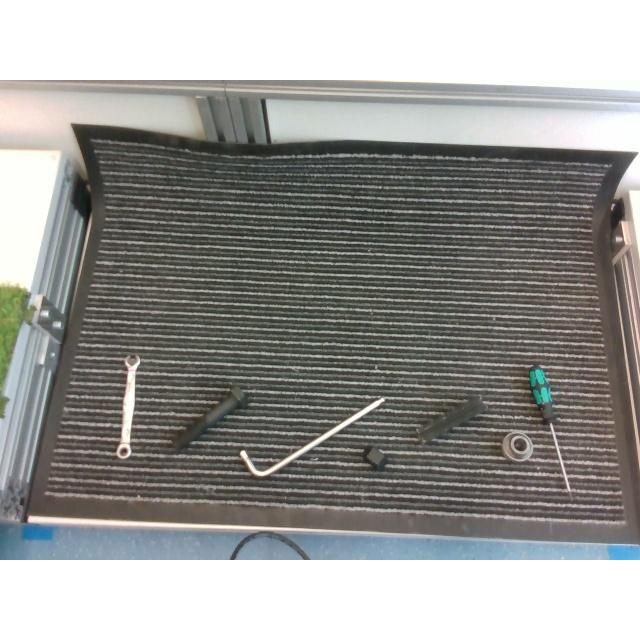AllenKey: (240, 397, 384, 477)
Bearing2: (501, 431, 533, 461)
F20_20_B: (418, 398, 487, 442)
M20: (362, 446, 386, 470)
M20_100: (172, 385, 248, 451)
Screwdriver: (527, 364, 575, 501)
Wrench: (116, 354, 140, 458)
